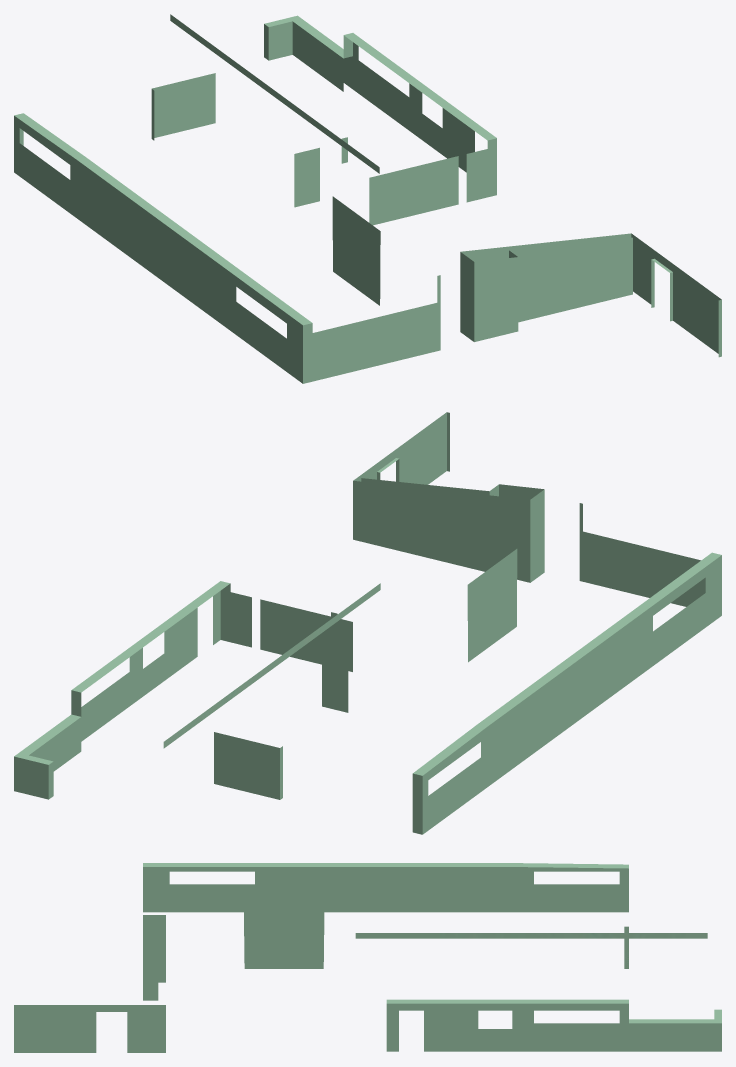
The model's file is Green_Walls.dae.
3 renders of one model, top to bottom at view 1: azimuth 30°, elevation 25°; view 2: azimuth 150°, elevation 25°; view 3: azimuth 270°, elevation 25°, orthographic. The views are drawn at different scales.
Visible parts, largest first — view 1: Green_Walls; view 2: Green_Walls; view 3: Green_Walls.
Boxes of the visible parts, bbox=[...] form: Green_Walls: bbox=[14, 14, 721, 383]; Green_Walls: bbox=[14, 412, 721, 834]; Green_Walls: bbox=[14, 863, 721, 1052].
Bounding box in the file's own units: 21.4 × 45.6 × 4.9.
Materials: 1 (1 with a texture image).
